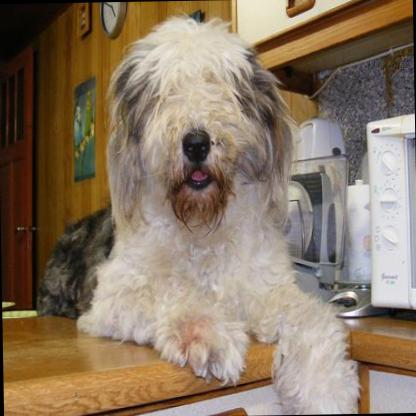Old_English_sheepdog: (33, 8, 358, 416)
